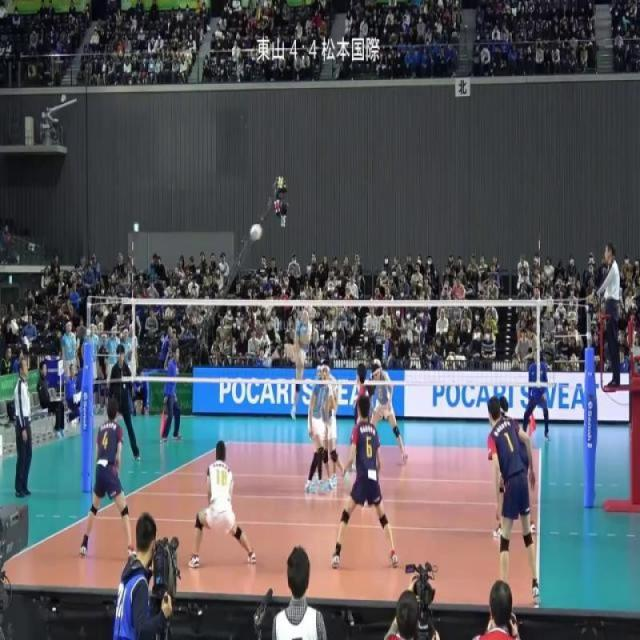volleyball: (249, 223, 263, 243)
